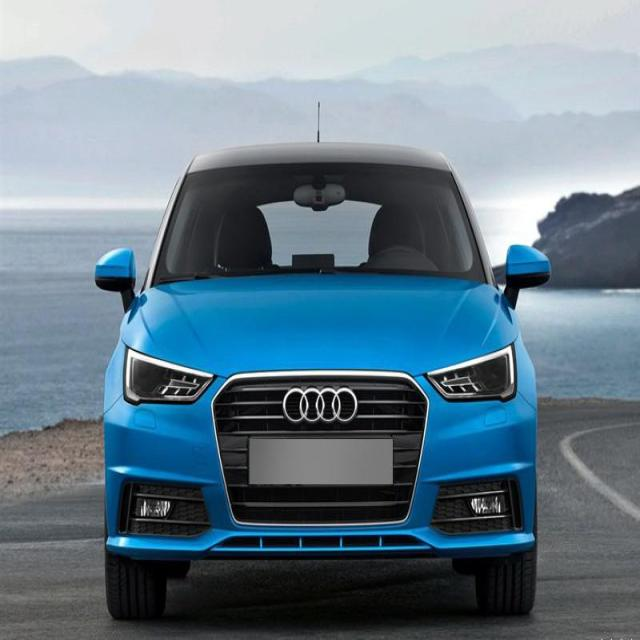front_bumper: (101, 363, 542, 564)
front_glass: (149, 156, 491, 292)
front_left_side_light: (423, 341, 519, 405)
front_left_side_mirror: (502, 242, 553, 309)
front_right_side_light: (121, 341, 218, 411)
front_right_side_mirror: (94, 244, 139, 310)
